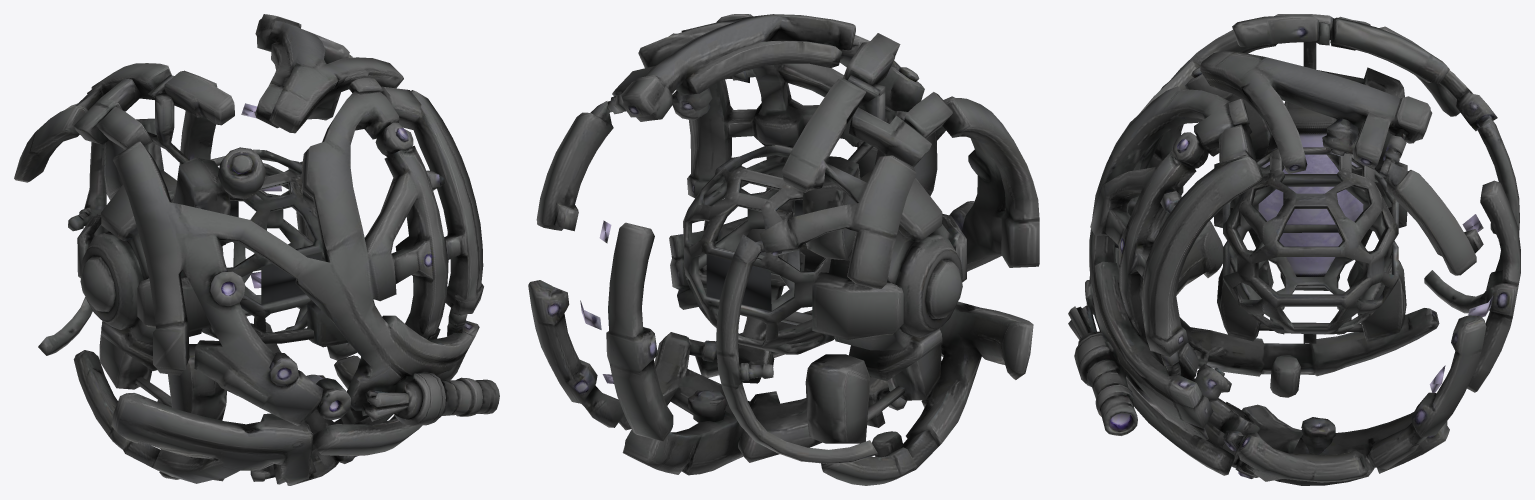
Rendered from relay-cage.glb.
3 views of the same model, side by side, from view 1: azimuth 30°, elevation 25°; view 2: azimuth 150°, elevation 25°; view 3: azimuth 270°, elevation 25° (orthographic). The views are drawn at different scales.
Visible parts, largest first — view 1: tripo_node_db39713c-a19a-4b4e-a7ff-256967201002; view 2: tripo_node_db39713c-a19a-4b4e-a7ff-256967201002; view 3: tripo_node_db39713c-a19a-4b4e-a7ff-256967201002.
Boxes of the visible parts, x1,y1,x2,y2 form: tripo_node_db39713c-a19a-4b4e-a7ff-256967201002: [14, 14, 499, 485]; tripo_node_db39713c-a19a-4b4e-a7ff-256967201002: [528, 14, 1039, 485]; tripo_node_db39713c-a19a-4b4e-a7ff-256967201002: [1068, 14, 1520, 485].
Size of the model in its own units: 0.8887 by 0.998 by 0.998.
Materials: 1 (1 with a texture image).
